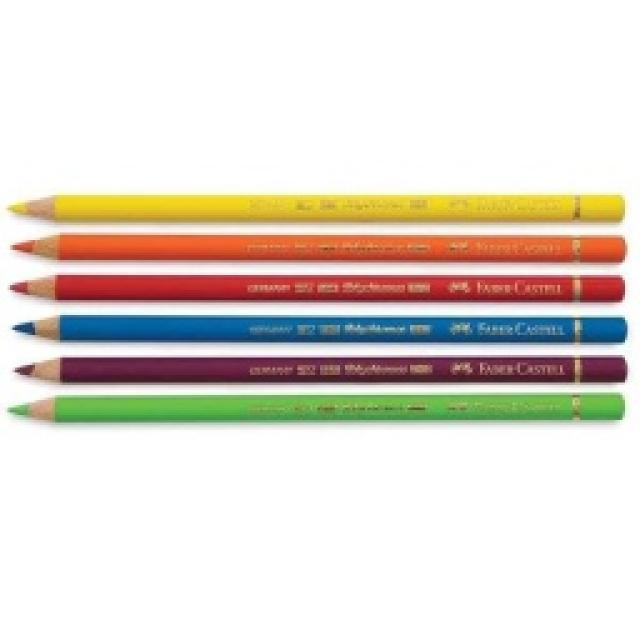pencil: (2, 188, 632, 428)
